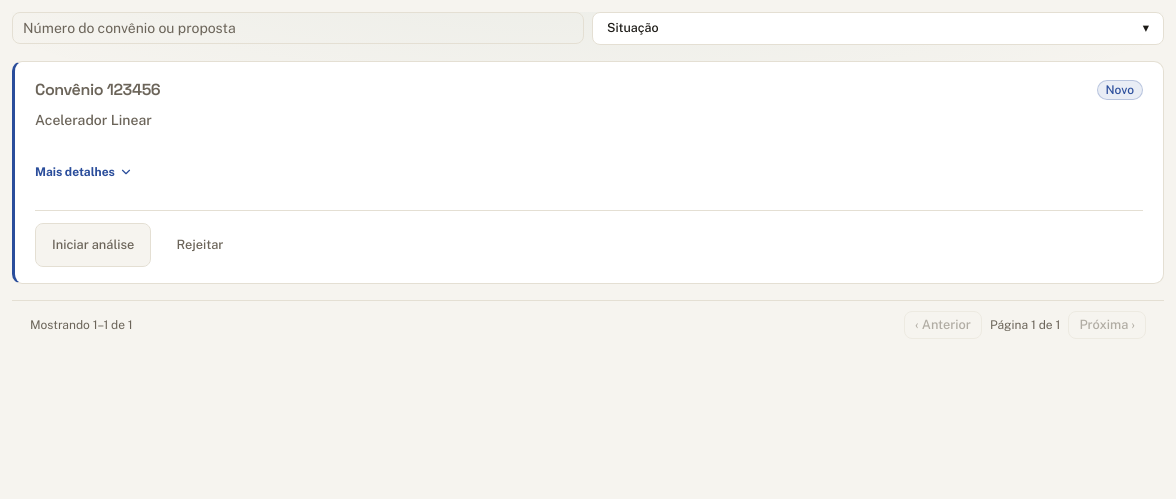
Test: Radar legado › mantém confirmação apenas nos detalhes, sem recriar filtro ou alterar situação
The image size is (1176, 499).
Check: the heading "Convênio 123456" is shown, box [35,78,160,102]
Check: the text "Não localizado no Portal" is not shown
Click the button "Mais detalhes" at {"x": 84, "y": 172}, box [35,150,133,194]
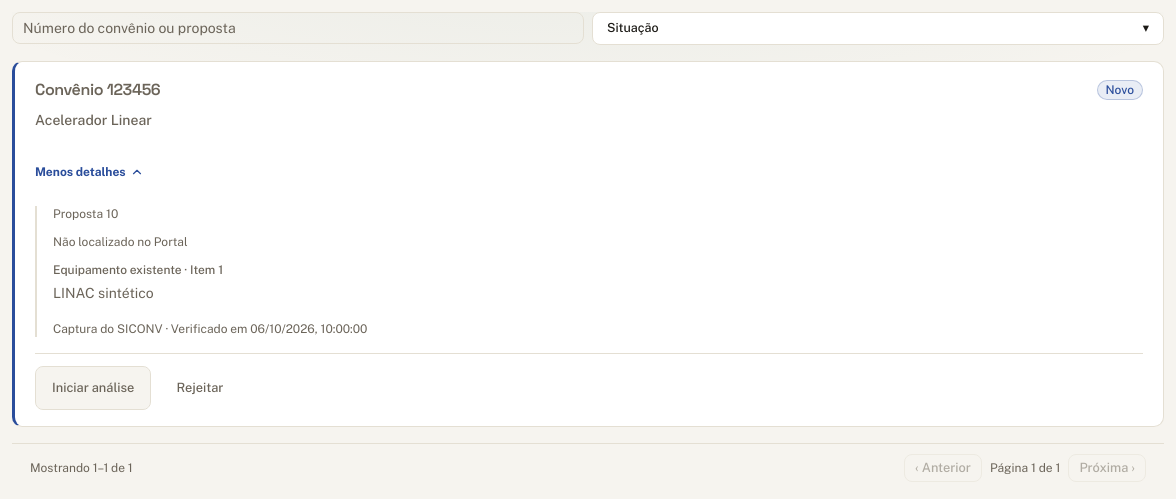
Check: the icon "Novo" is shown, box [1096,80,1143,100]
Check: the text "Não localizado no Portal" is shown, box [53,235,188,249]
